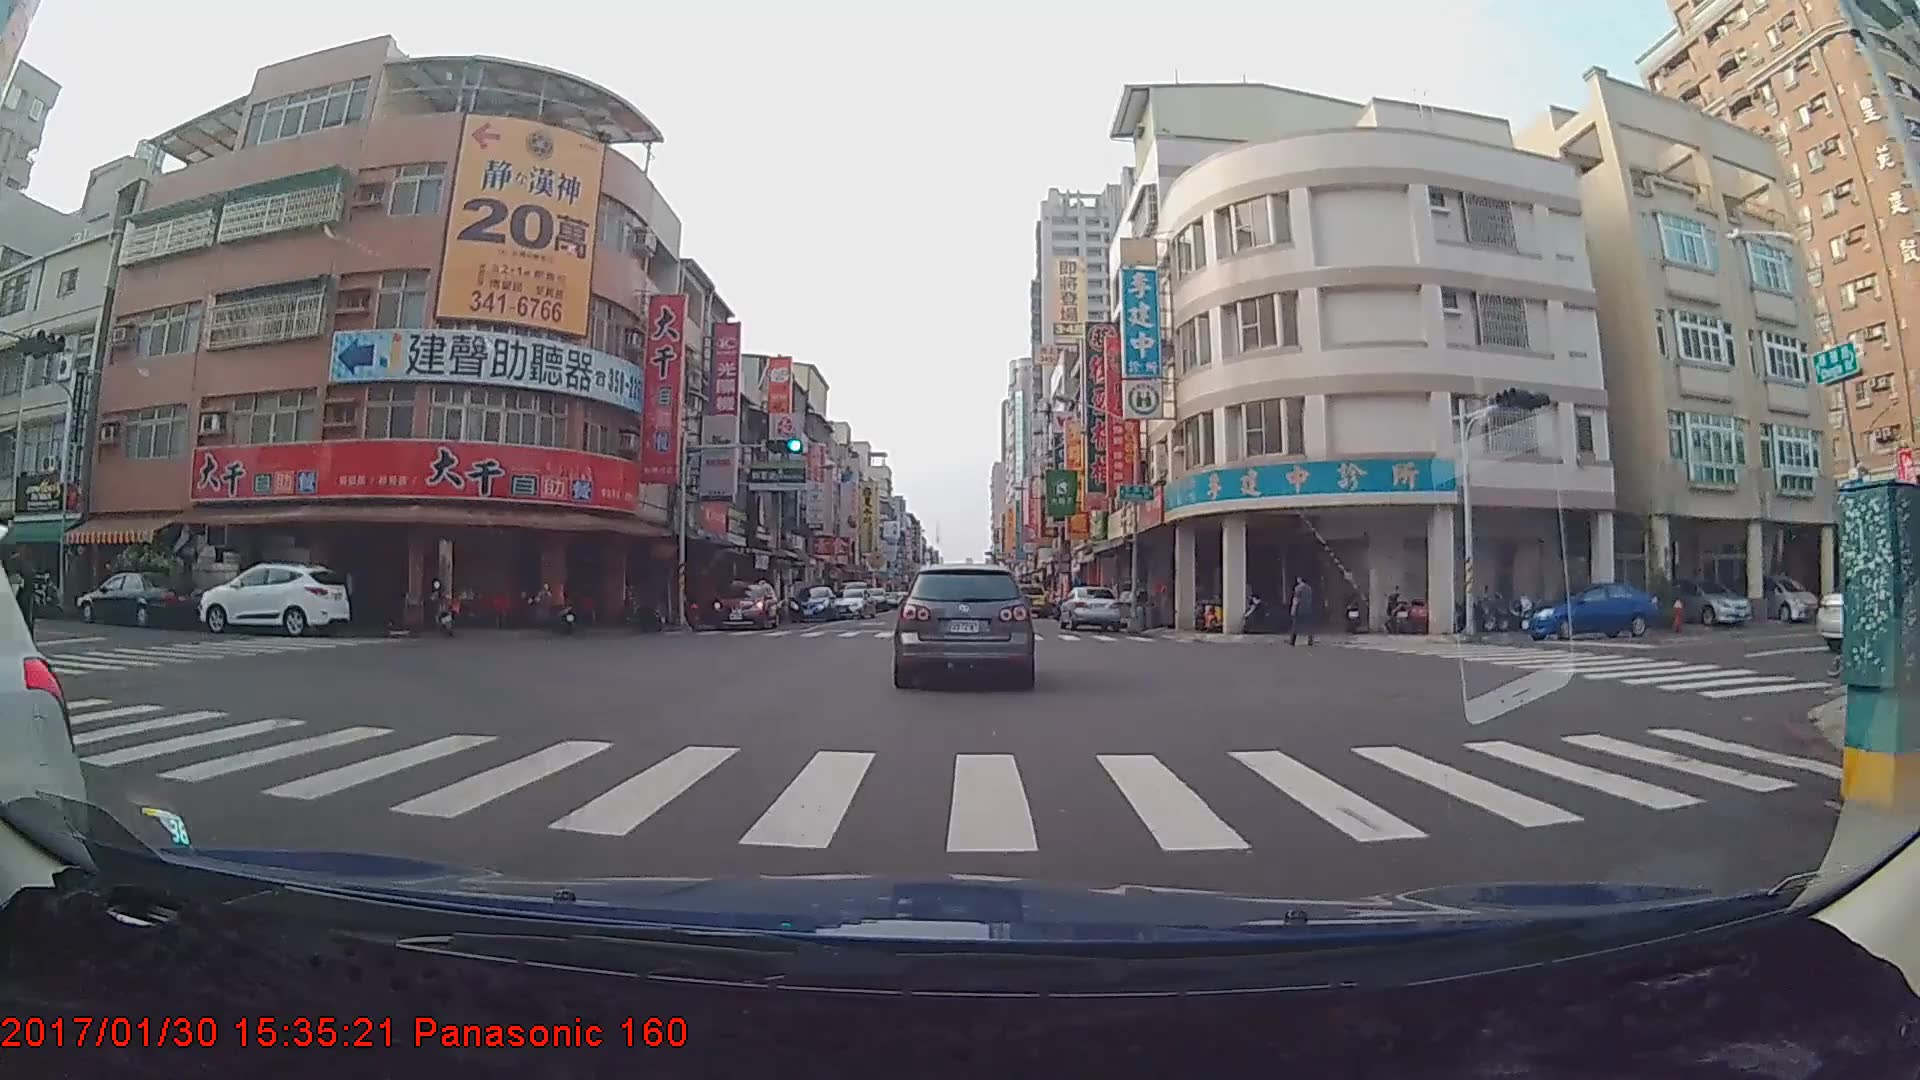pedestrian: (1289, 577, 1318, 651)
vehicle: (894, 561, 1034, 689), (198, 561, 350, 635), (1522, 581, 1659, 641), (76, 569, 199, 632), (1645, 573, 1750, 628), (1726, 568, 1825, 625), (712, 577, 779, 630), (1055, 584, 1122, 631), (788, 584, 839, 622), (827, 588, 877, 618), (1011, 582, 1049, 617)
